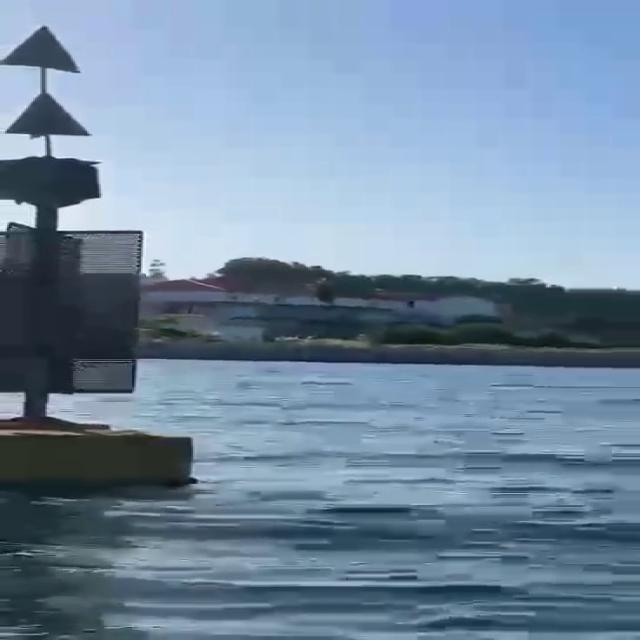marque: (1, 26, 208, 493)
